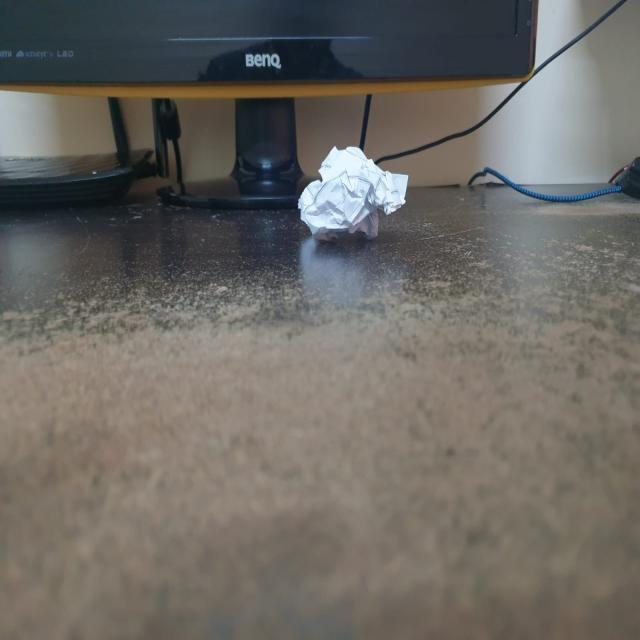Paper: (301, 142, 410, 237)
